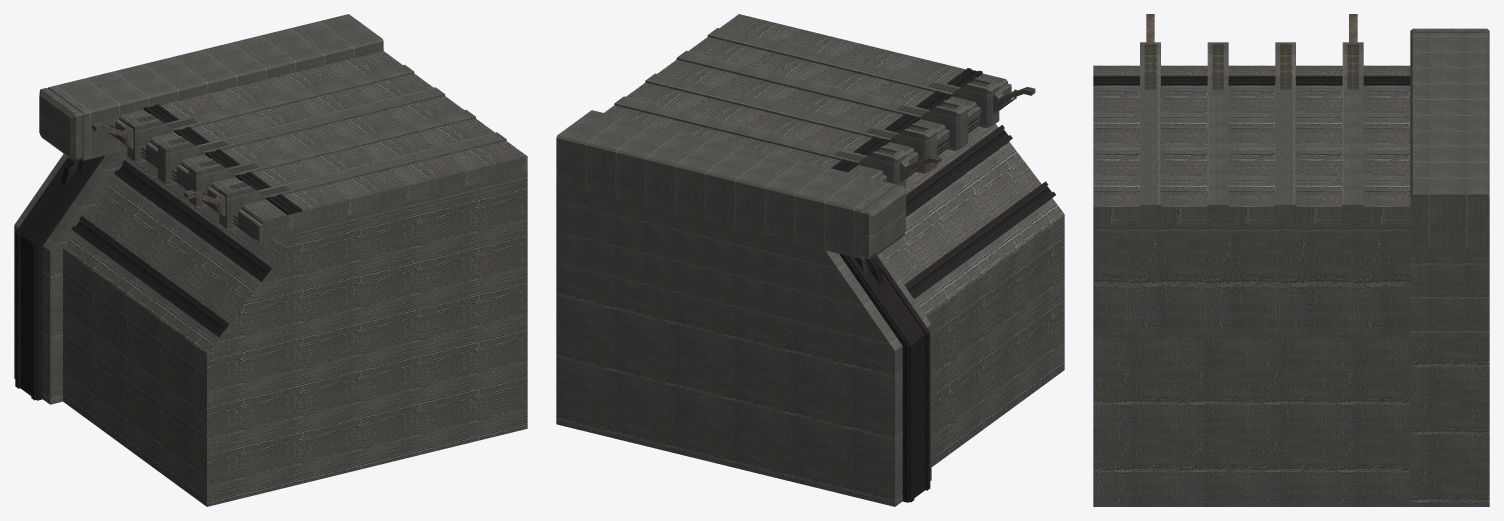
The model's file is wall1.fbx.
3 renders of one model, left to right at view 1: azimuth 30°, elevation 25°; view 2: azimuth 150°, elevation 25°; view 3: azimuth 270°, elevation 25°, orthographic. The views are drawn at different scales.
Visible parts, largest first — view 1: Object; view 2: Object; view 3: Object.
Boxes of the visible parts, bbox=[...] form: Object: bbox=[14, 14, 527, 506]; Object: bbox=[556, 14, 1064, 506]; Object: bbox=[1093, 14, 1489, 506].
Bounding box in the file's own units: 9300 × 7650 × 8500.
